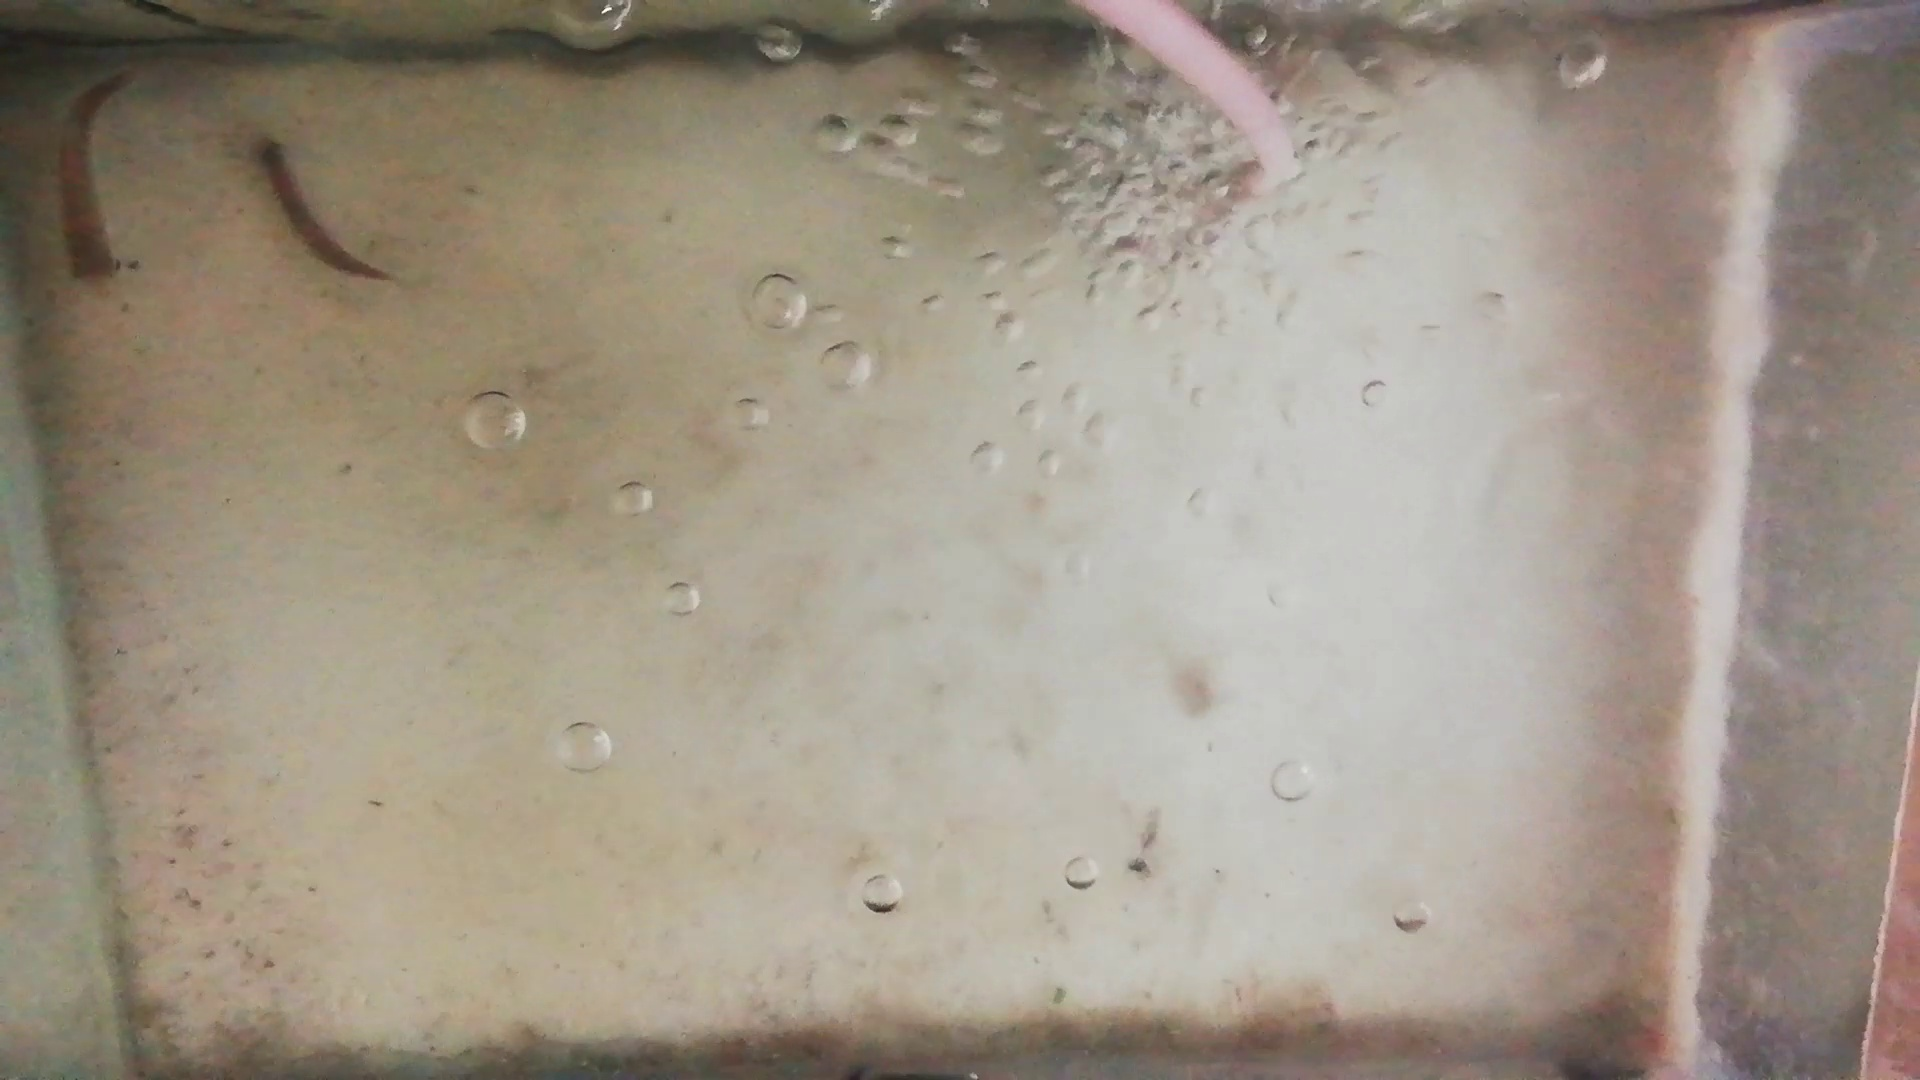fish: (57, 66, 142, 293), (255, 131, 381, 280)
